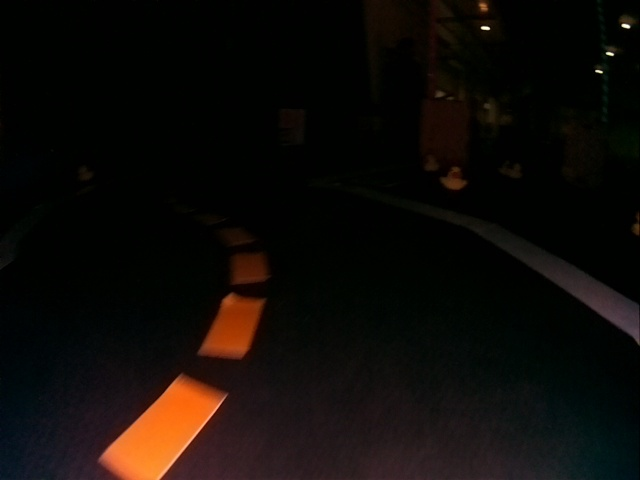Duckie: (441, 166, 466, 190), (425, 159, 439, 171), (79, 168, 92, 179)
